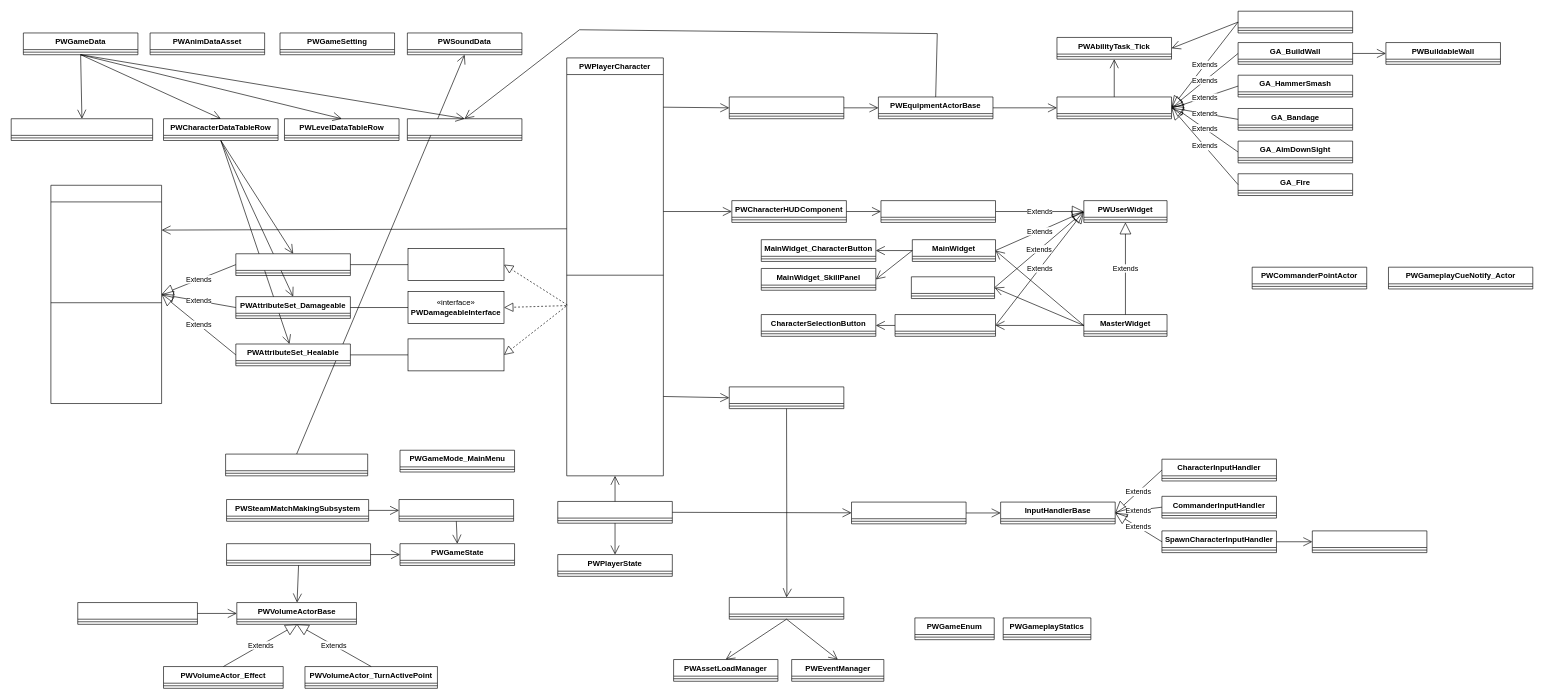
Image size: 1544x700. Some labels were removed from this diagram. Each missing label, with the centre of its shape:
"CharacterInGameHUD" belongs at [938,211].
"CharacterSelectionWidget" belongs at [945,325].
"GA_BuildWall_Preview" belongs at [1295,22].
"LoadingWidget" belongs at [953,287].
"PWAnimInstance" belongs at [786,397].
"PWAttributeSet_Attackable" belongs at [292,264].
"PWAttributeSetBase" belongs at [106,294].
"PWBGMManageSubsystem" belongs at [296,464].
"PWEquipmentComponent" belongs at [786,107].
"PWEquipmentDataTableRow" belongs at [464,129].
"PWGameInstance" belongs at [786,608].
"PWGameMode" belongs at [456,510].
"PWGameplayAbilityBase" belongs at [1114,107].
"PWGameplayEffectDataTableRow" belongs at [82,129].
"PWPlayerController" belongs at [614,512].
"PWPlayerInputComponent" belongs at [908,512].
"PWSpawnAreaActor" belongs at [1369,541].
"PWTurnManageSubsysem" belongs at [298,554].
"PWVolumeActorLocator" belongs at [137,613].
"«interface» PWAttackableInterface" belongs at [455,264].
"«interface» PWHealableInterface" belongs at [455,354].
